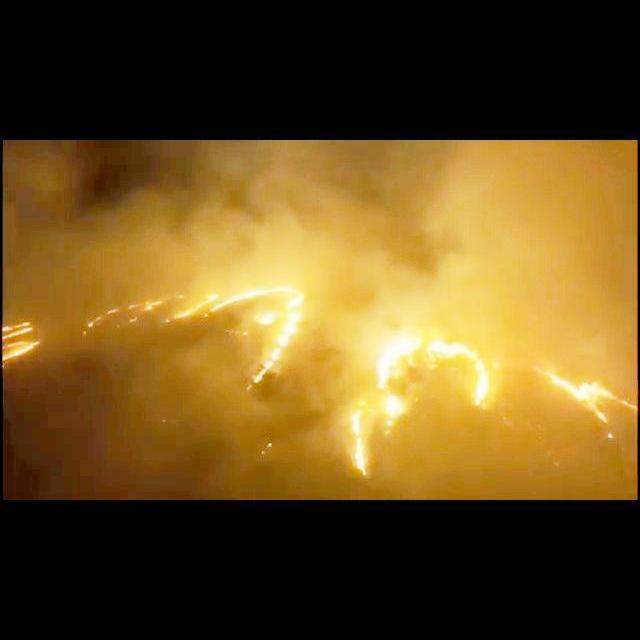Fire: (98, 284, 312, 391), (353, 326, 492, 478), (536, 362, 638, 442), (2, 322, 40, 366)
Smoke: (0, 142, 640, 288)
